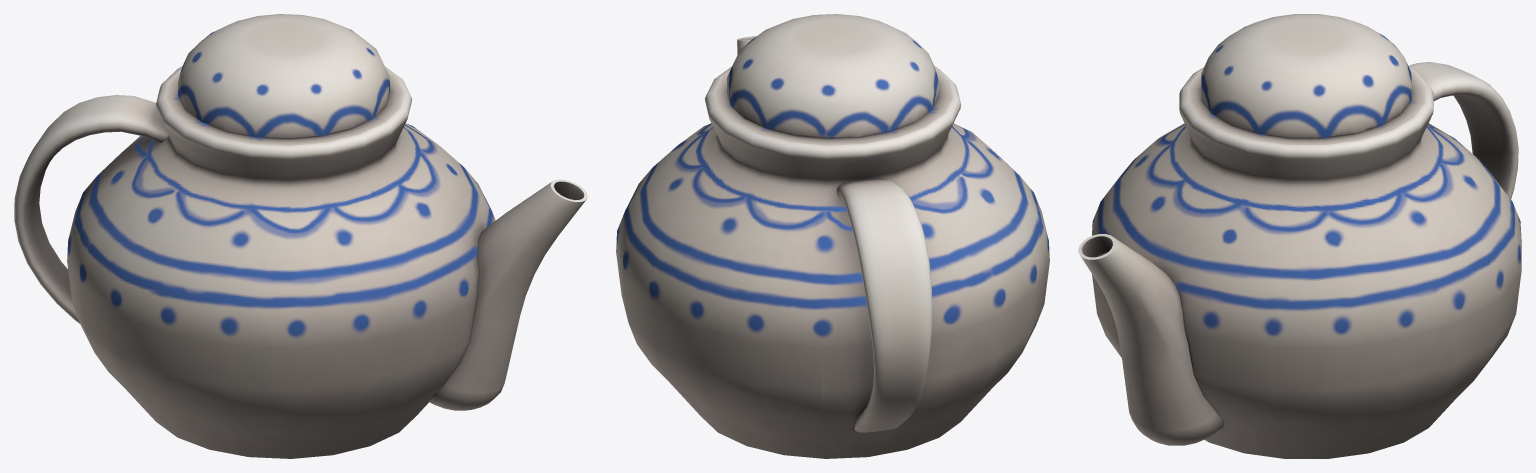
File: SM_BreakfastProps_TeaPot.fbx
The picture shows the model from 3 angles, left to right: view 1: azimuth 30°, elevation 25°; view 2: azimuth 150°, elevation 25°; view 3: azimuth 270°, elevation 25°; orthographic projection.
Visible parts, largest first — view 1: SM_BreakfastProps_TeaPot_LOD0; view 2: SM_BreakfastProps_TeaPot_LOD0; view 3: SM_BreakfastProps_TeaPot_LOD0.
Part boxes in pixels (left/top/right/bottom): SM_BreakfastProps_TeaPot_LOD0: left=14, top=14, right=587, bottom=458; SM_BreakfastProps_TeaPot_LOD0: left=616, top=14, right=1049, bottom=458; SM_BreakfastProps_TeaPot_LOD0: left=1078, top=14, right=1521, bottom=458.
Bounding box in the file's own units: 24.32 × 24.32 × 22.02.
Materials: 1 (1 with a texture image).
